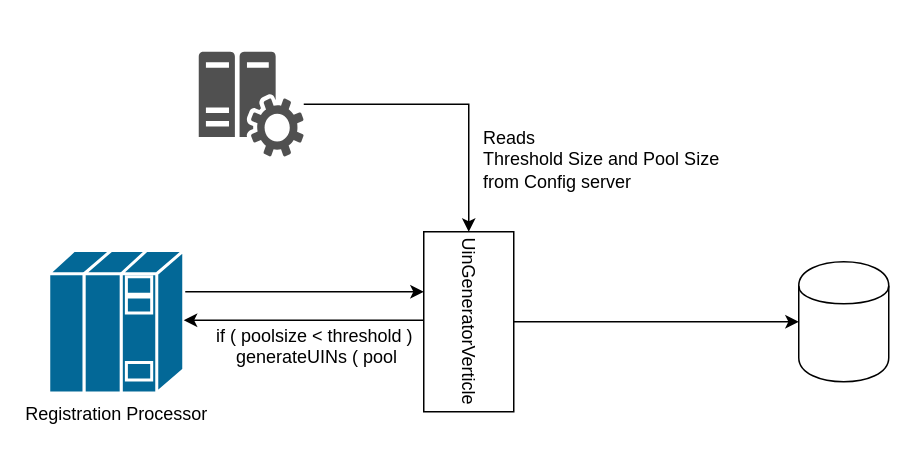
This 915x450 diagram has some shape labels left out. The box of each missing label's shape, as (x1, y1, x2, y2) in pixels:
Config Server: (198, 51, 303, 156)
UIN Pool: (797, 260, 889, 382)
